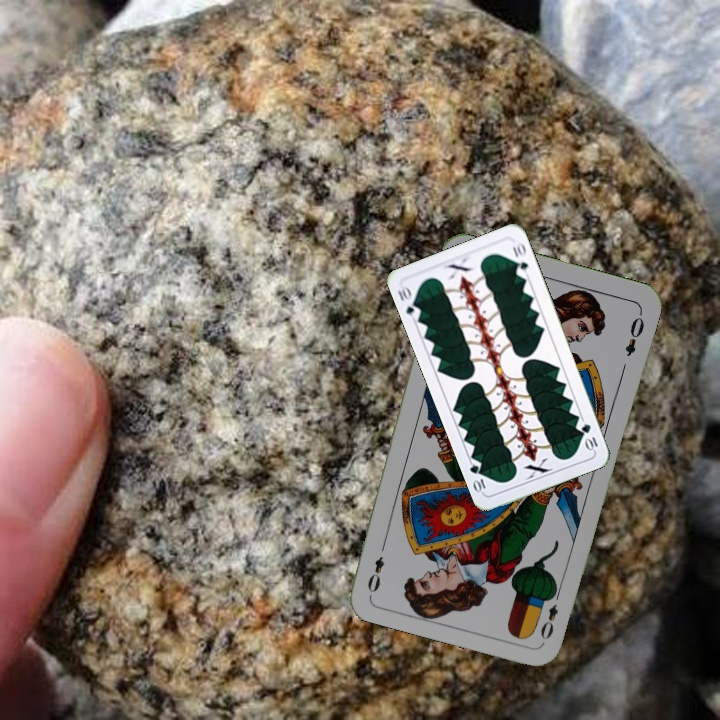EO: (536, 585, 563, 643)
G10: (393, 283, 423, 322), (577, 420, 600, 453)
